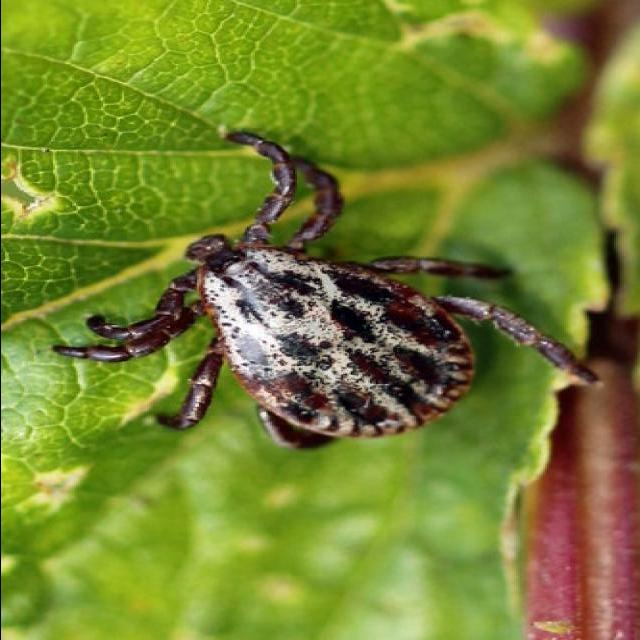Dermacentor Reticulatus-M: (52, 131, 602, 454)
